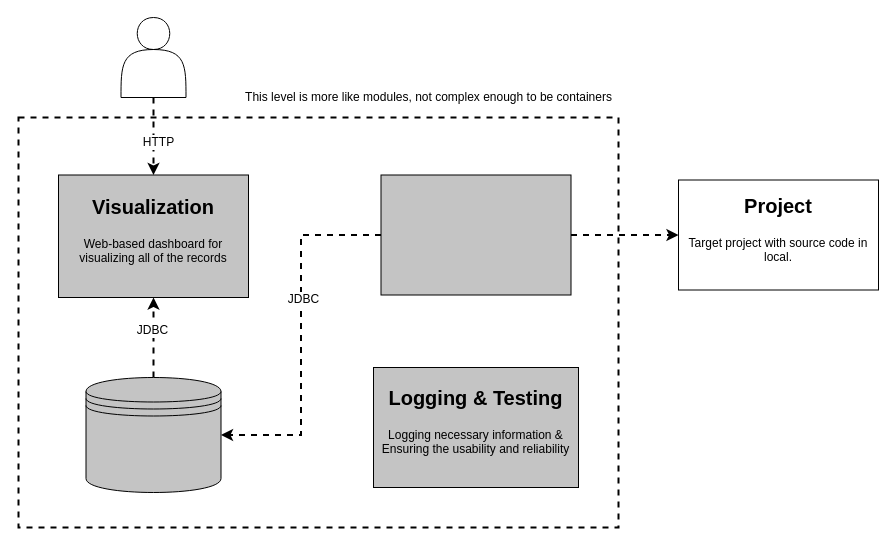
This 896x553 diagram has some shape labels left out. The box of each missing label's shape, as (x1, y1, x2, y2) in pixels:
Code Analysis Analyze the source code or bytecode of target project: (380, 174, 571, 295)
Database (MongoDB): (85, 376, 221, 492)
